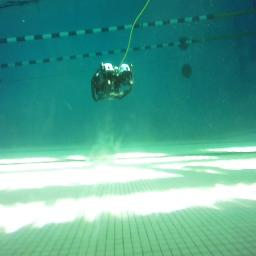front: (90, 61, 134, 103)
